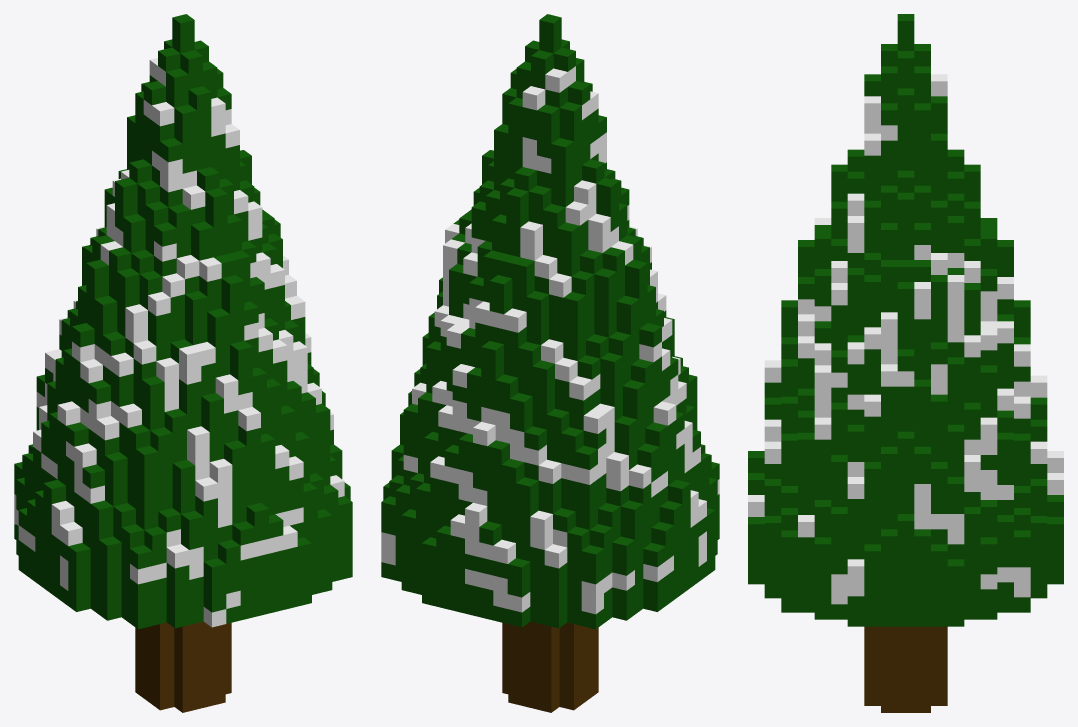
The model's file is pineTree.obj.
3 renders of one model, left to right at view 1: azimuth 30°, elevation 25°; view 2: azimuth 150°, elevation 25°; view 3: azimuth 270°, elevation 25°, orthographic.
Visible parts, largest first — view 1: model_0.001; view 2: model_0.001; view 3: model_0.001.
Part boxes in pixels (<box>): model_0.001: <box>14,14,352,712</box>; model_0.001: <box>381,14,719,712</box>; model_0.001: <box>748,14,1063,712</box>.
Bounding box in the file's own units: 9.5 × 22.5 × 9.5.
